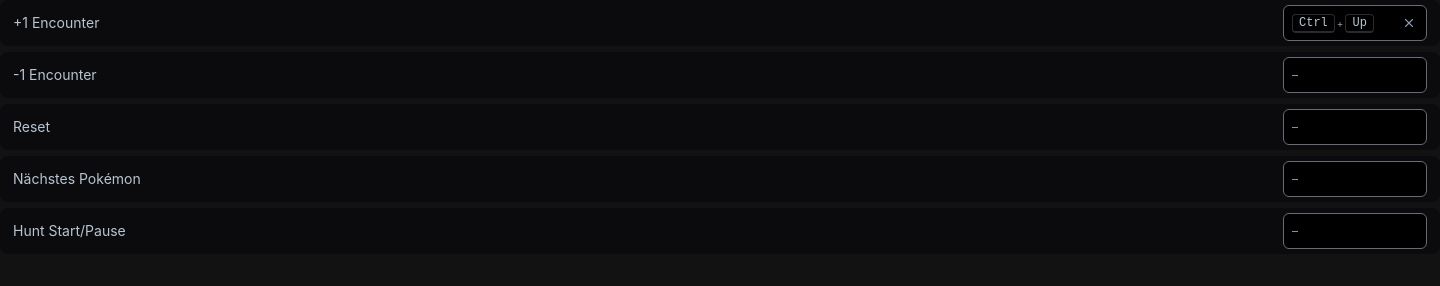
Test: HotkeySettings › shows a localized message instead of the raw backend error
The image size is (1440, 286).
Click the button named "-1 Encounter: Keine Taste zugewiesen" at (1355, 75), box [1283,57,1427,93]
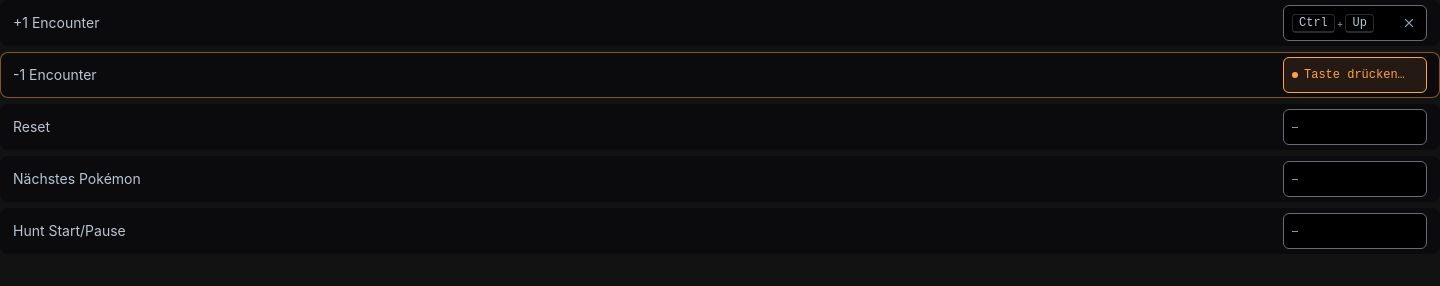
Press F13
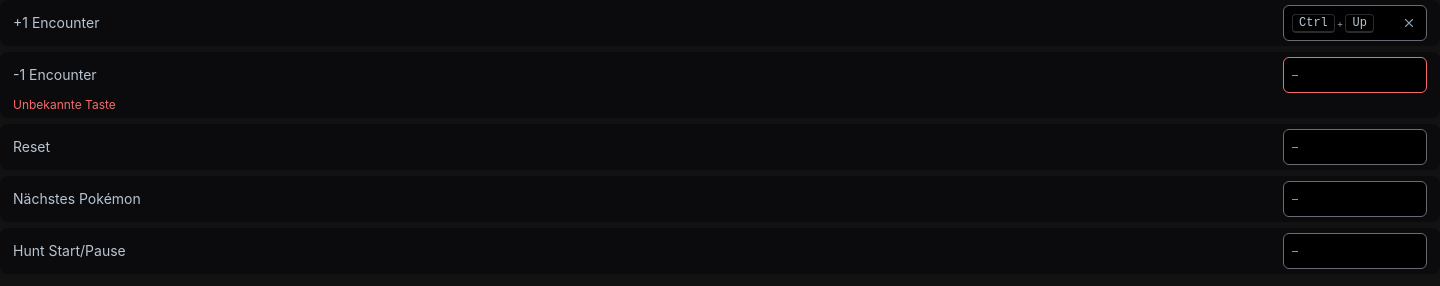
Now the message reads "Unbekannte Taste", box [13,97,116,112]
